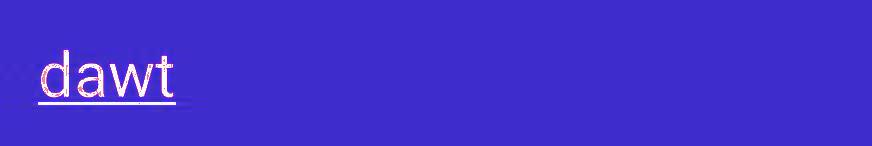EditText: (1, 1, 871, 145)
